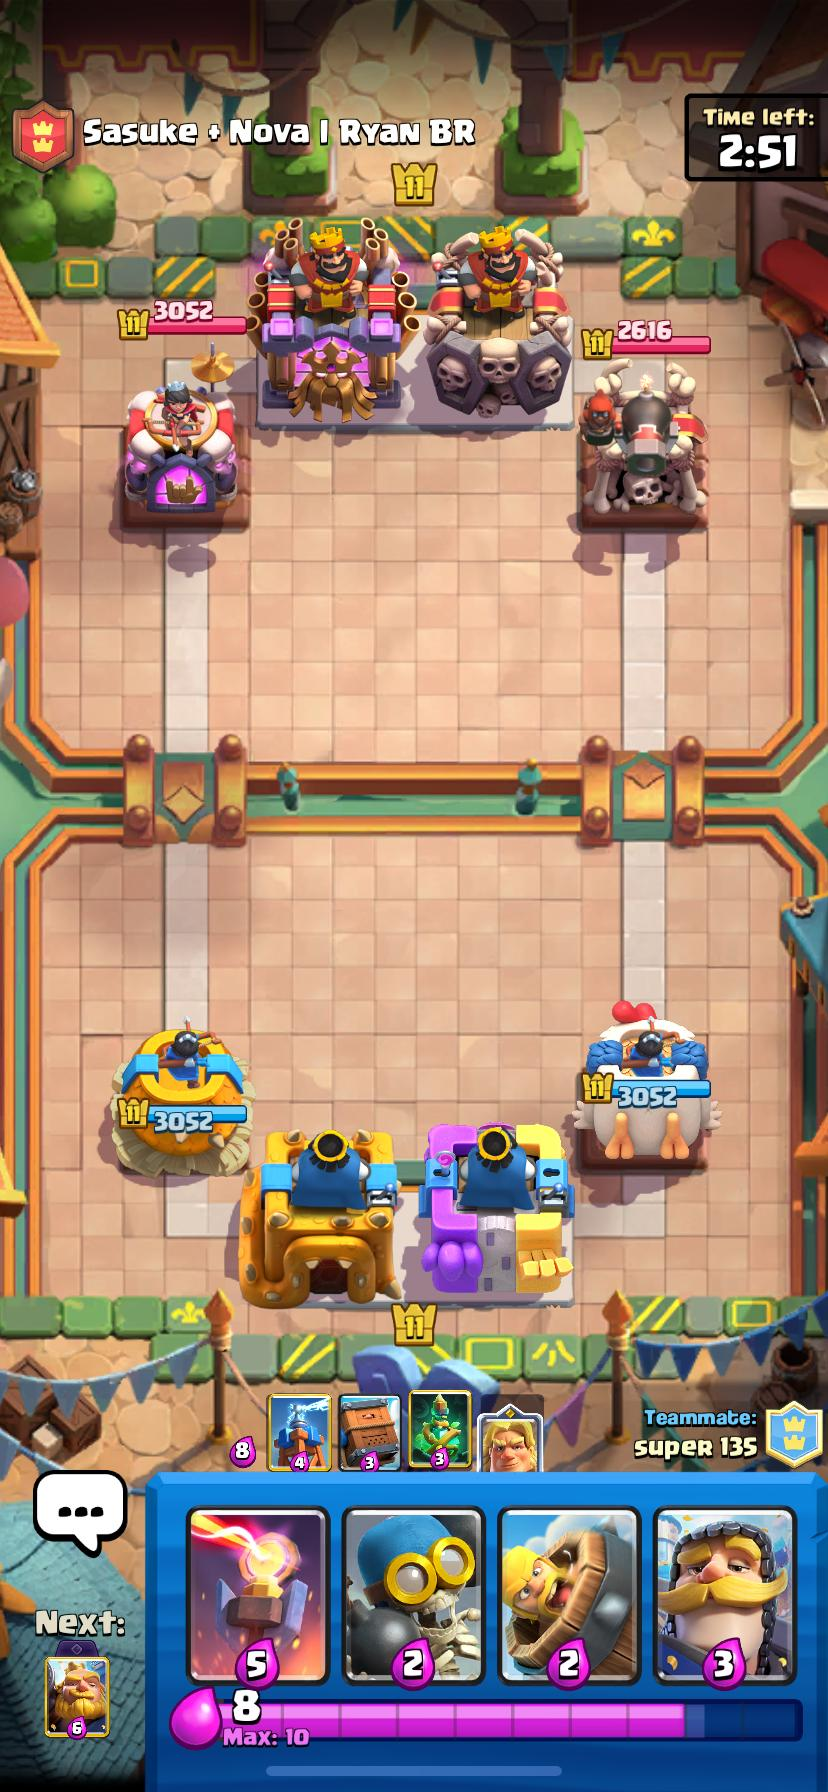ECannoneerTower: (580, 373, 706, 522)
EKingTower: (247, 219, 413, 419), (424, 226, 570, 417)
EnemyPrincessTower: (124, 383, 237, 519)
OwnKingTower: (419, 1123, 573, 1299), (261, 1129, 401, 1305)
OwnPrincessTower: (114, 1029, 253, 1173), (582, 1017, 710, 1161)
